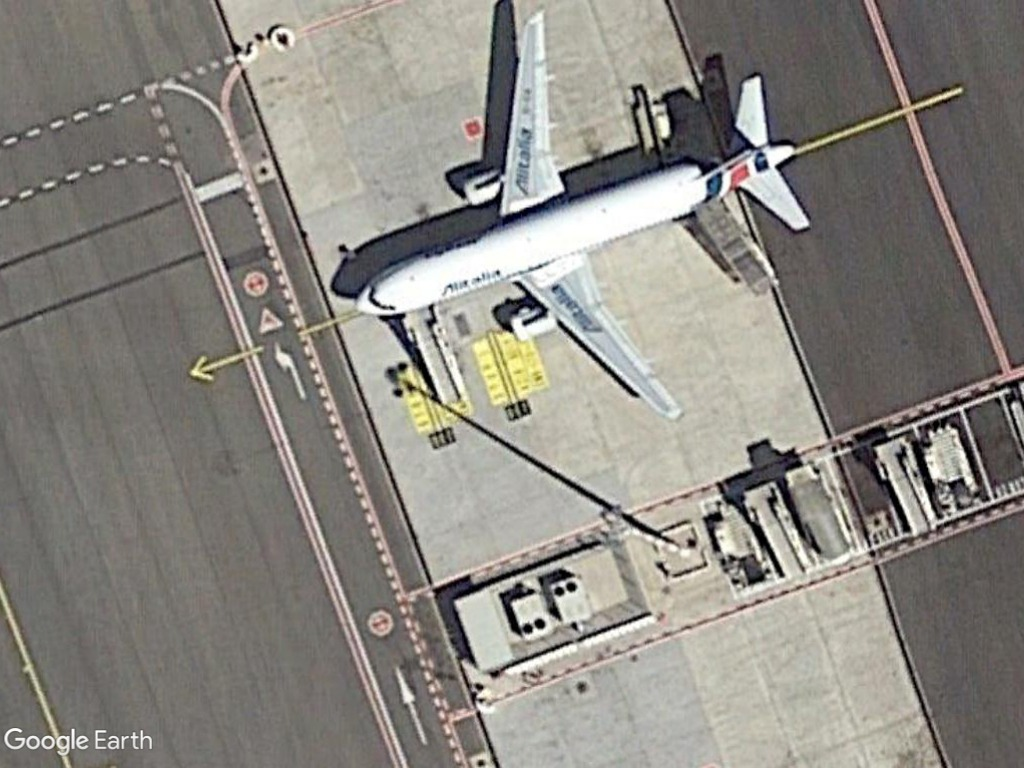airliner: (347, 10, 817, 425)
pushbacktruck: (916, 408, 986, 519)
stairtruck: (736, 478, 816, 582), (863, 437, 940, 535), (399, 312, 473, 408)
